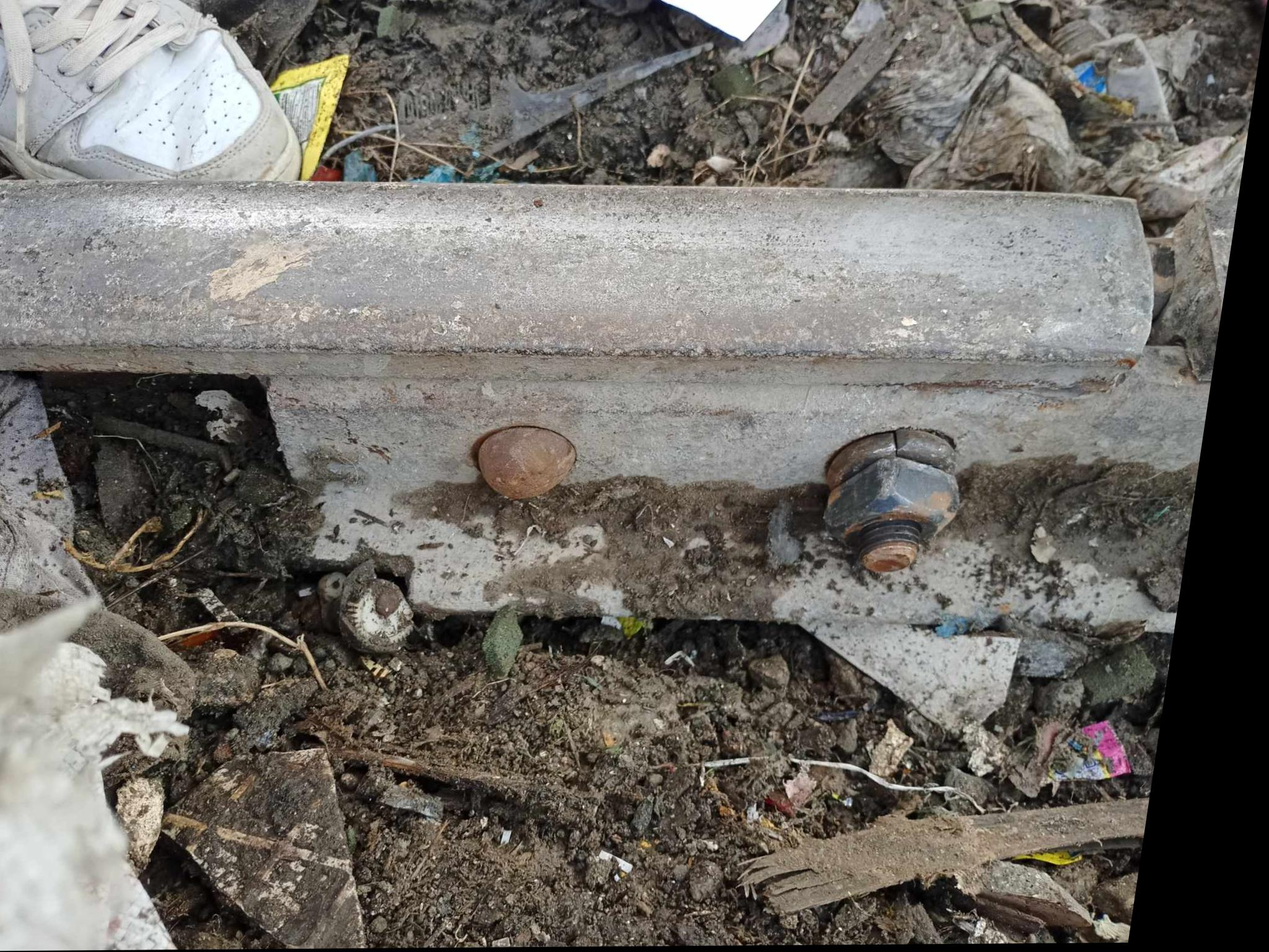person: (1090, 167, 1249, 395)
